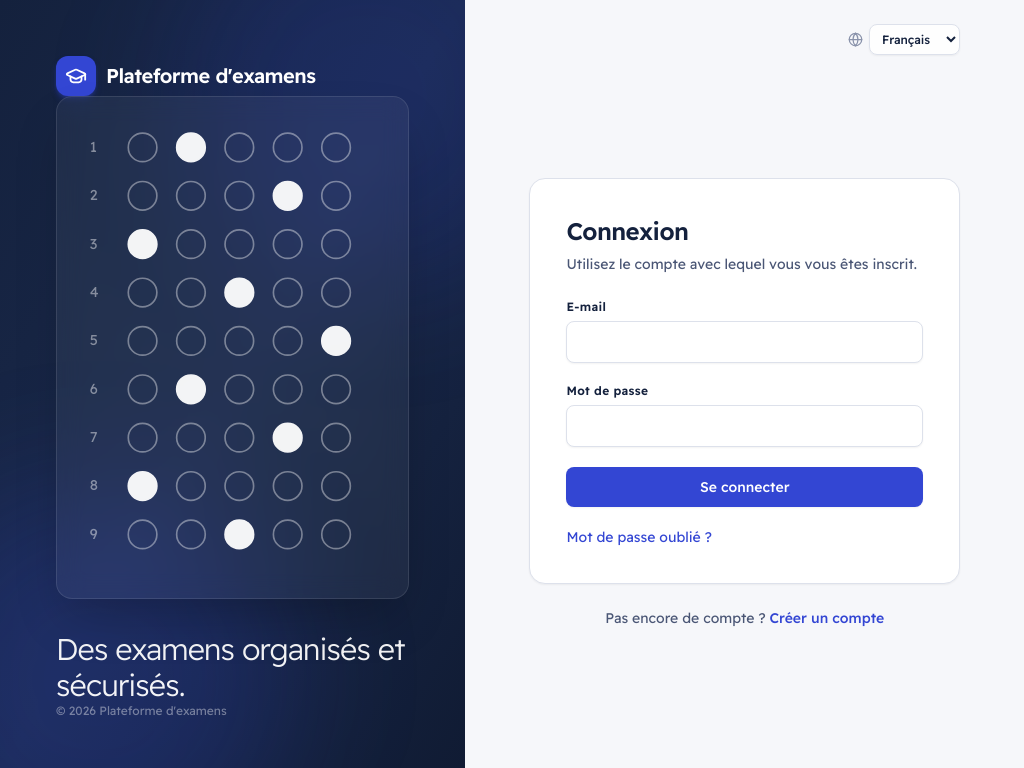
Scenario: login › shows a localised error for wrong credentials
Type "a@b.dz" into the field labelled "E-mail" at (745, 342), box [566,321,923,363]
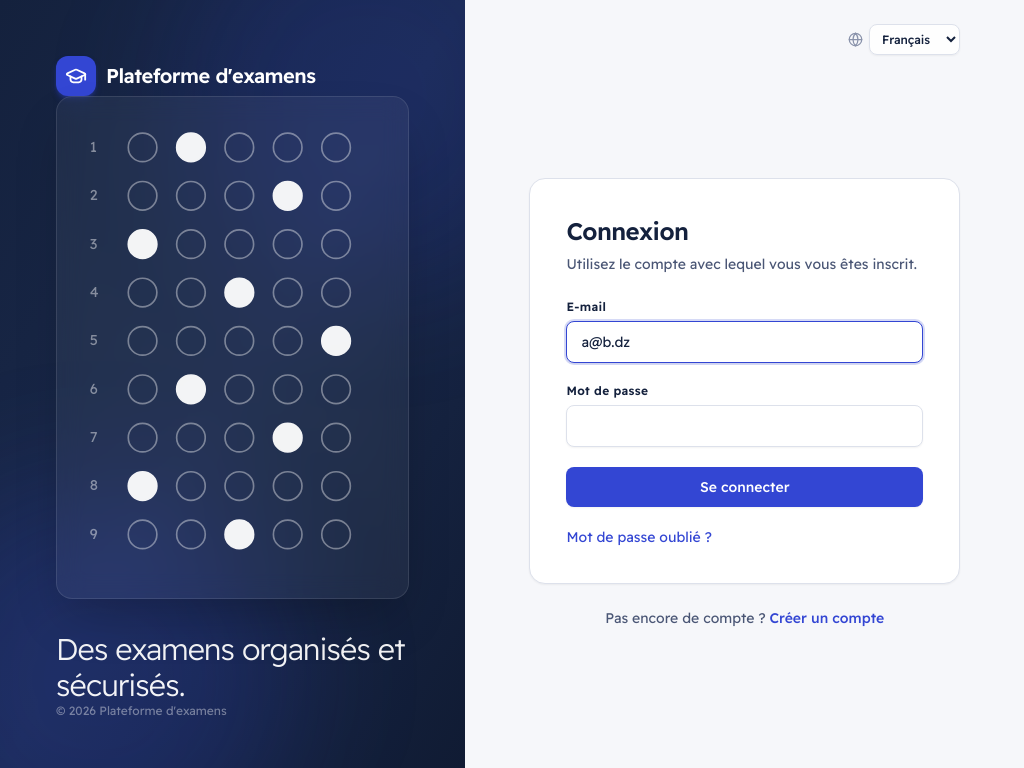
Type "wrongwrongwrong" into the password field labelled "Mot de passe" at (745, 426), box [566,405,923,447]
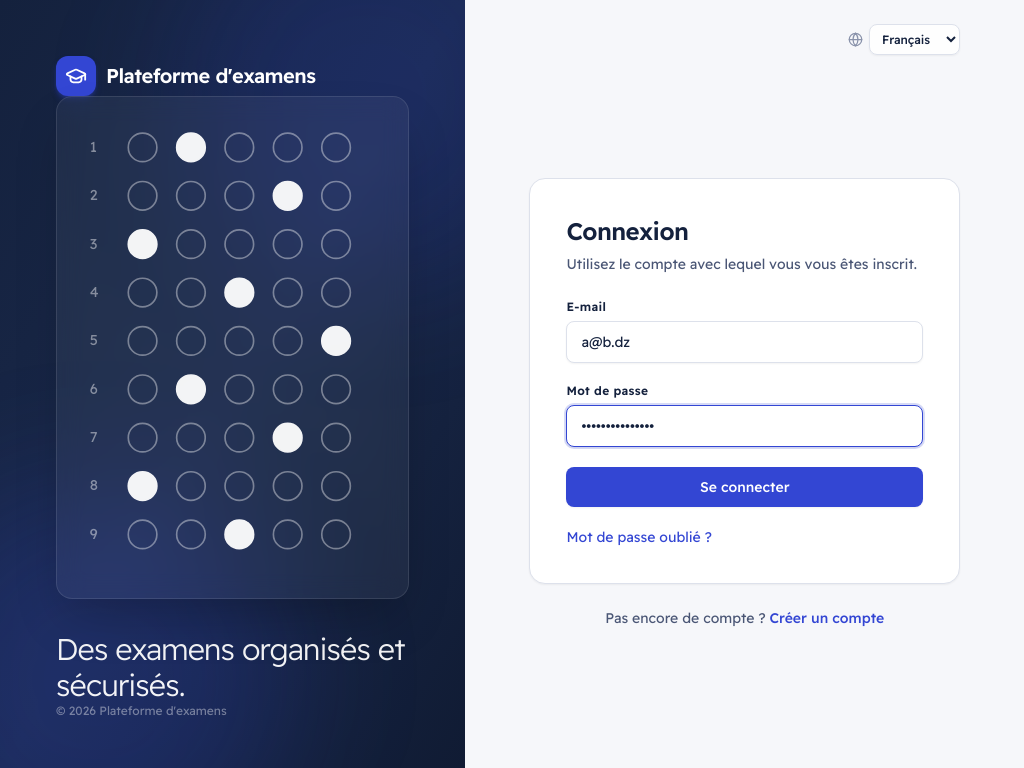
Click the button "Se connecter" at (745, 487), box [566,467,923,507]
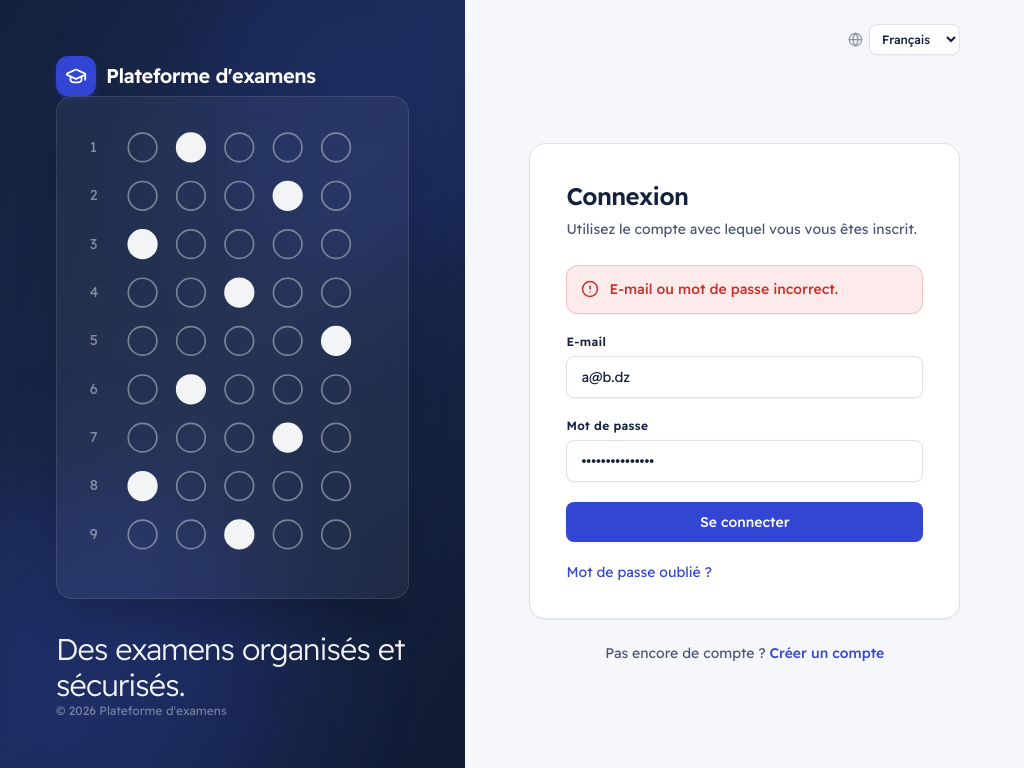
Check: the message reads "E-mail ou mot de passe incorrect.", box [610,280,838,298]
